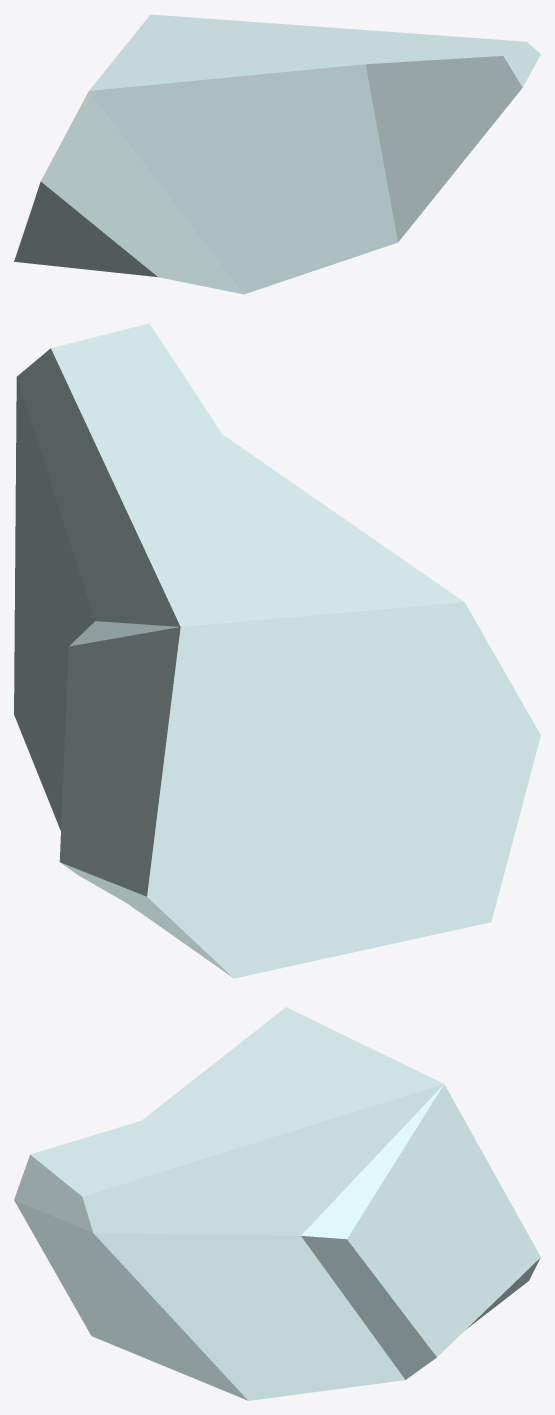
File: stone-pointy_white.glb
3 renders of one model, top to bottom at view 1: azimuth 30°, elevation 25°; view 2: azimuth 150°, elevation 25°; view 3: azimuth 270°, elevation 25°, orthographic. The views are drawn at different scales.
Visible parts, largest first — view 1: stone-pointy_winter; view 2: stone-pointy_winter; view 3: stone-pointy_winter.
Part boxes in pixels (x1,y1,x2,y2): stone-pointy_winter: (14,14,540,294); stone-pointy_winter: (14,323,540,978); stone-pointy_winter: (14,1007,540,1400).
Bounding box in the file's own units: 1.95 × 1.02 × 1.68.
Materials: 1 (1 with a texture image).
